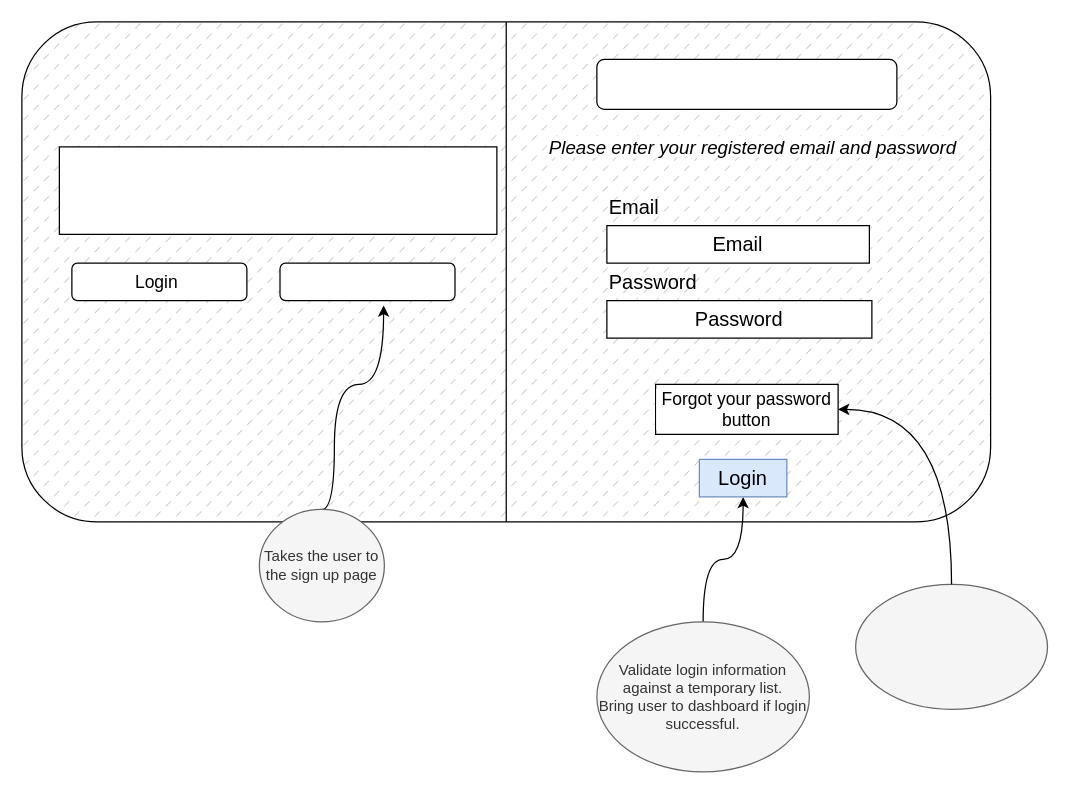
This 1070x794 diagram has some shape labels left out. The centre of each missing label's shape, as x and y in pixels:
Sign up: the point at 367,281
Takes the user to a page where they can input their recovery email: the point at 951,646
USER LOGIN: the point at 746,83
Welcome back! Login to continue: the point at 277,190
